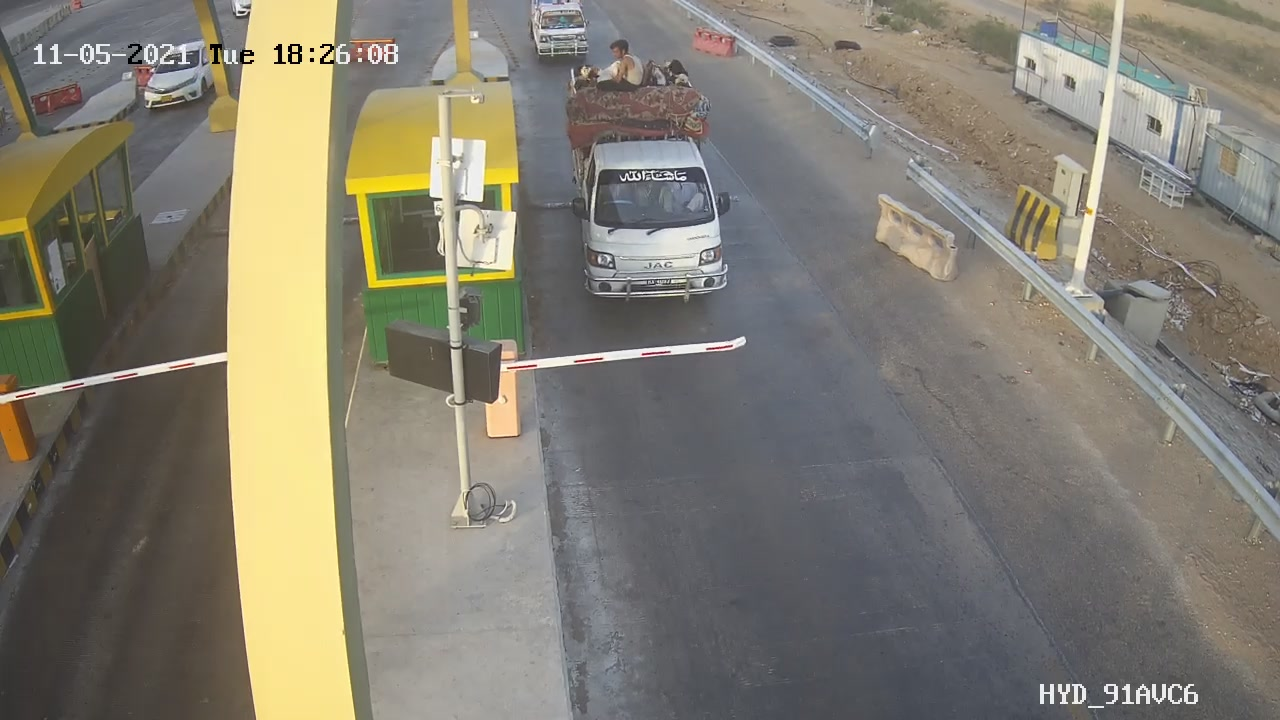F2: (550, 103, 748, 310)
